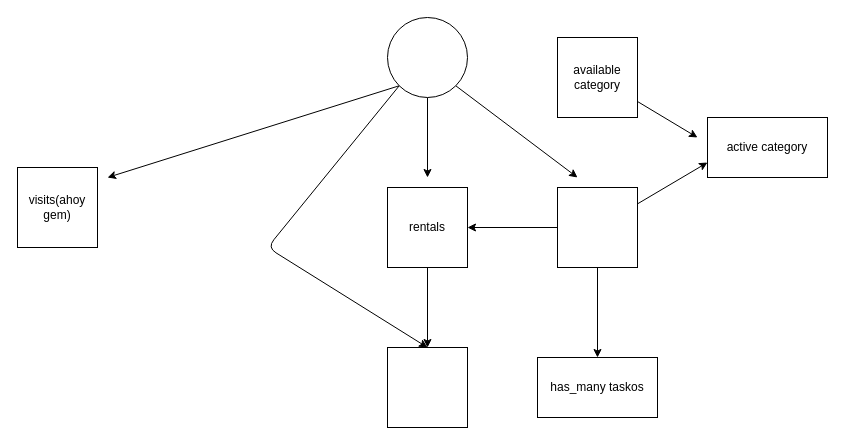
Image size: 845x445. Some labels were removed from this diagram. Here are the shapes that lost their labels. From the top down, the centre of each, then its label:
At pixel 427 57: "USER".
At pixel 597 227: "equipment".
At pixel 427 387: "reviews".
